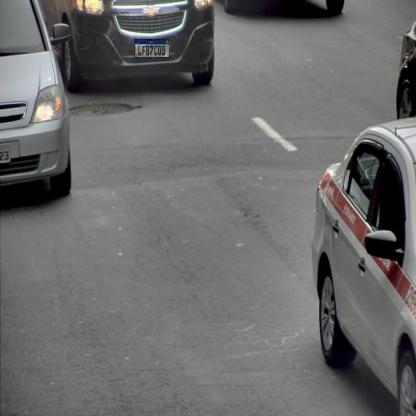PlacaM: (134, 39, 170, 58)
